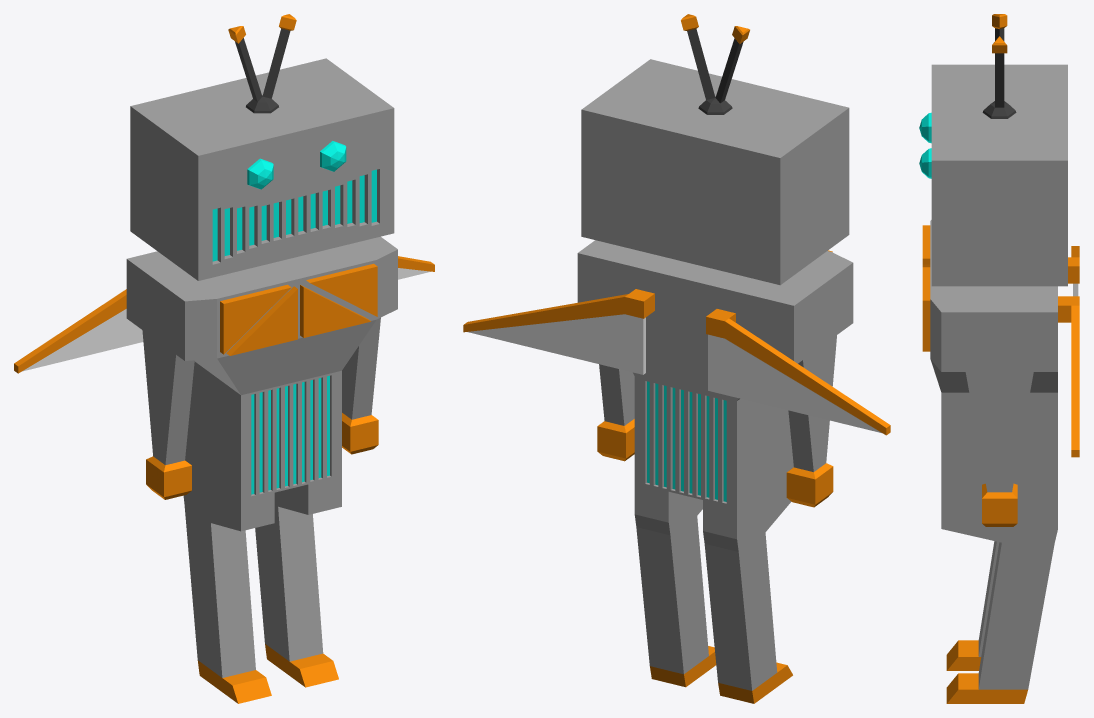
File: ToyRobot.fbx
3 views of the same model, side by side, from view 1: azimuth 30°, elevation 25°; view 2: azimuth 150°, elevation 25°; view 3: azimuth 270°, elevation 25° (orthographic).
Visible parts, largest first — view 1: Cube; view 2: Cube; view 3: Cube.
Boxes of the visible parts, left/top/right/bottom form: Cube: left=14, top=14, right=434, bottom=703; Cube: left=463, top=14, right=890, bottom=703; Cube: left=919, top=14, right=1079, bottom=703.
Bounding box in the file's own units: 20.07 × 30 × 6.68.
